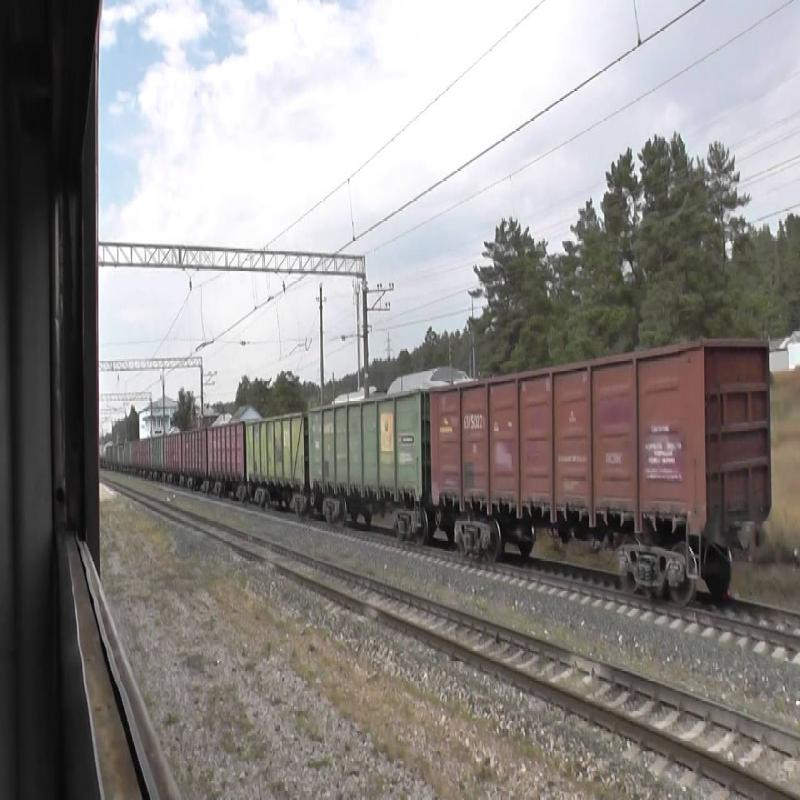train: (439, 278, 778, 583), (302, 330, 441, 546), (245, 386, 314, 527), (199, 405, 267, 498)
